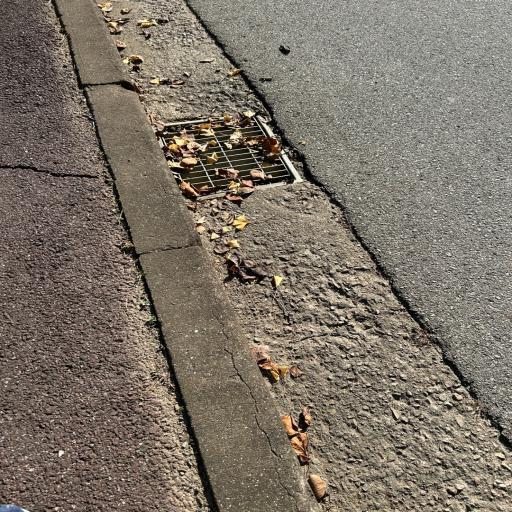debris: (181, 131, 218, 154), (261, 137, 280, 157), (179, 181, 198, 197), (237, 111, 254, 126), (167, 143, 183, 157), (216, 168, 238, 178), (229, 130, 243, 145), (197, 122, 213, 135), (243, 137, 261, 146), (180, 157, 197, 166), (223, 113, 235, 125), (250, 170, 265, 179), (207, 152, 218, 163), (241, 180, 253, 188), (228, 181, 240, 189), (174, 137, 186, 145), (200, 186, 209, 191), (225, 143, 231, 148)
drain: (154, 113, 304, 200)
